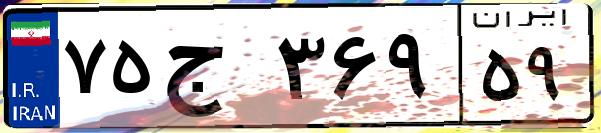3: (270, 28, 330, 110)
5: (475, 38, 525, 113), (110, 28, 158, 98)
6: (330, 28, 385, 110)
7: (57, 26, 110, 100)
9: (385, 28, 445, 110), (525, 38, 570, 115)
ج: (158, 20, 270, 120)
